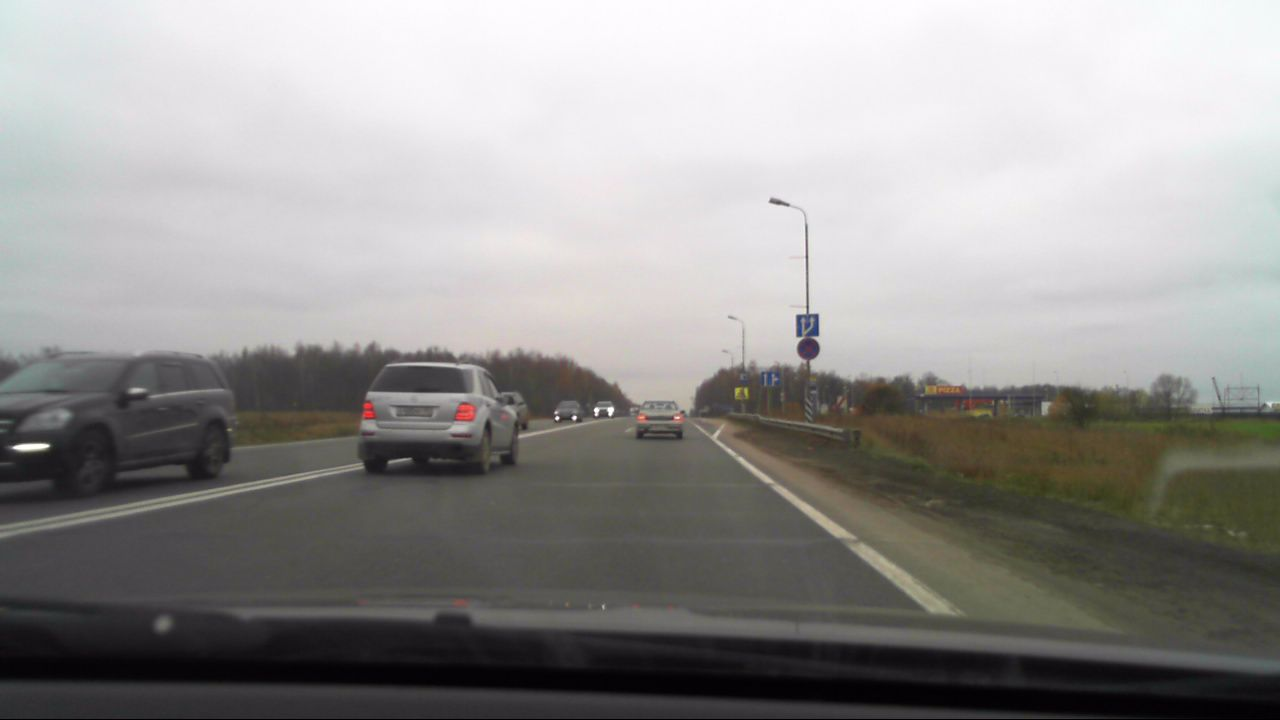No Parking: (796, 337, 820, 360)
